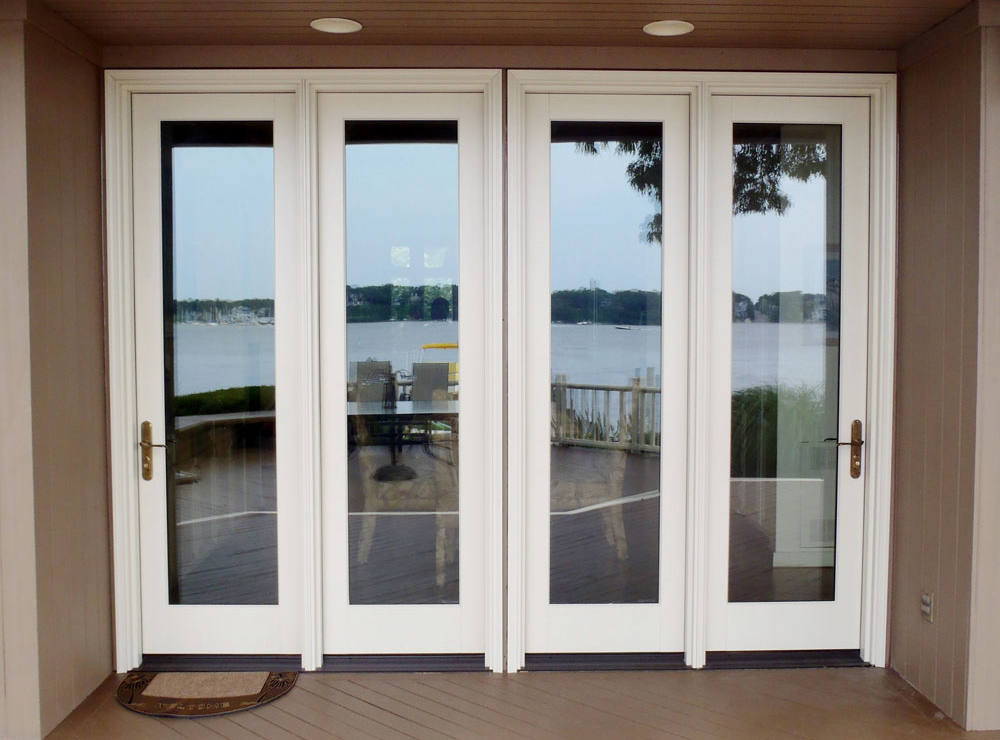windows: (106, 68, 860, 660)
